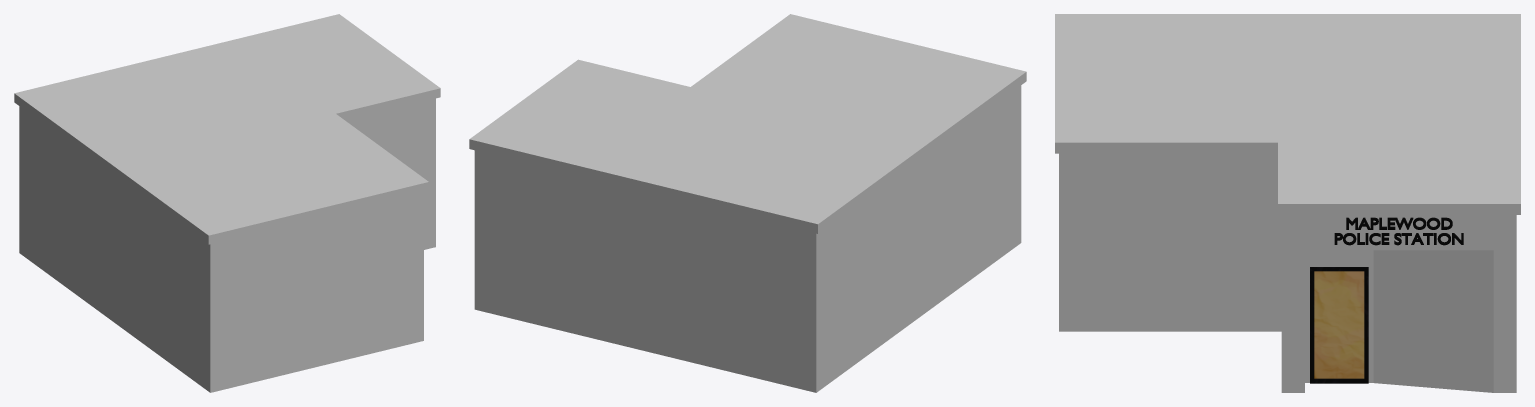
Rendered from police_station.fbx.
The picture shows the model from 3 angles, left to right: view 1: azimuth 30°, elevation 25°; view 2: azimuth 150°, elevation 25°; view 3: azimuth 270°, elevation 25°; orthographic projection. The views are drawn at different scales.
Visible parts, largest first — view 1: building; view 2: building; view 3: building, door, Text.
Boxes of the visible parts, <box> form: building: <box>14,14,440,392</box>; building: <box>469,14,1026,392</box>; building: <box>1055,14,1520,392</box>; door: <box>1310,267,1368,383</box>; Text: <box>1334,217,1463,245</box>.
Size of the model in its own units: 2135 by 1000 by 2213.
